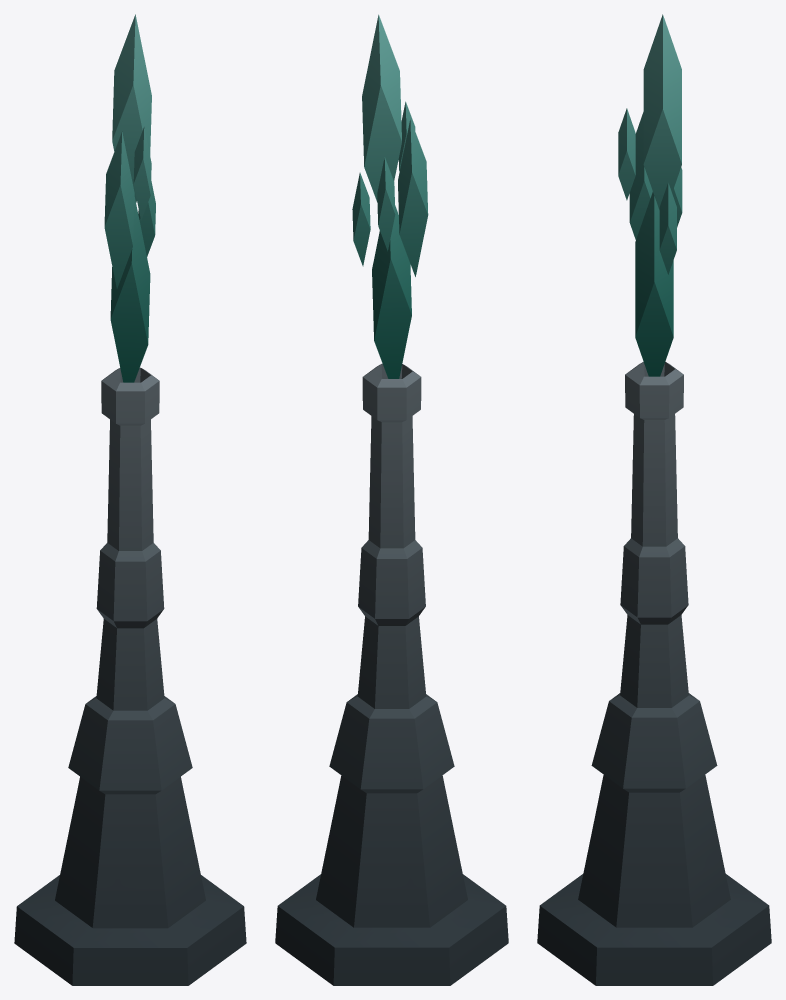
The model's file is Monu 4.fbx.
The picture shows the model from 3 angles, left to right: view 1: azimuth 30°, elevation 25°; view 2: azimuth 150°, elevation 25°; view 3: azimuth 270°, elevation 25°; orthographic projection.
Parts seen in each view (by area): view 1: Monu 4; view 2: Monu 4; view 3: Monu 4.
Part boxes in pixels (x1=…): Monu 4: x1=14, y1=14, x2=246, y2=985; Monu 4: x1=275, y1=14, x2=508, y2=985; Monu 4: x1=537, y1=14, x2=771, y2=985.
Bounding box in the file's own units: 68.38 × 347 × 78.96.
